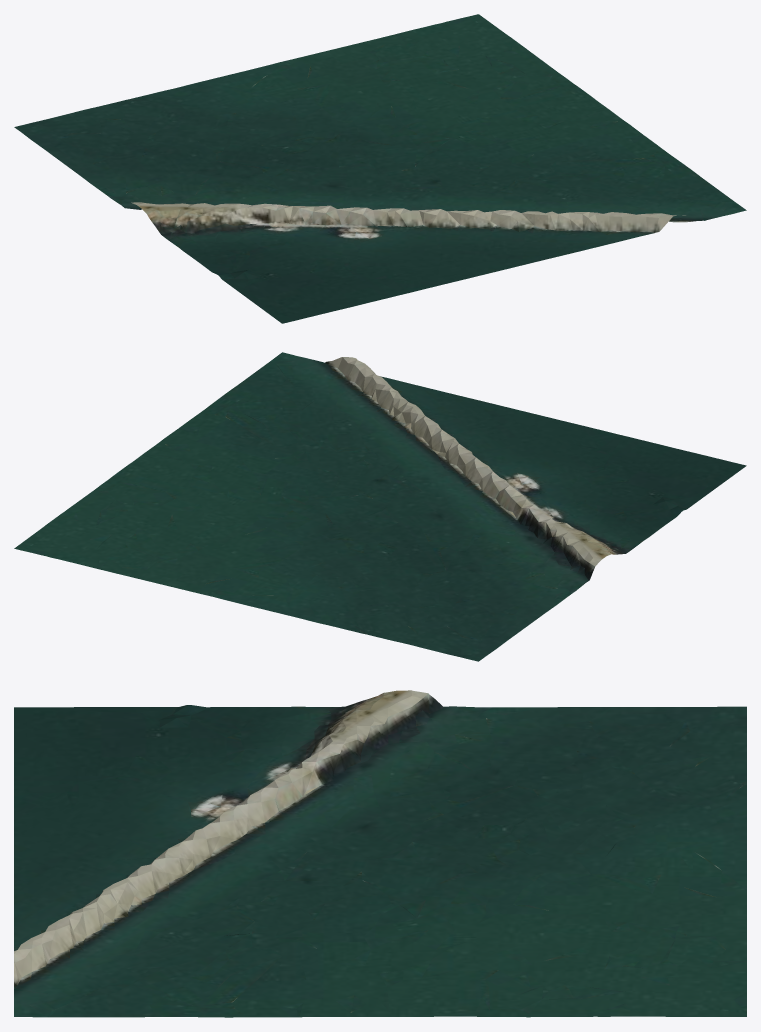
3 renders of one model, top to bottom at view 1: azimuth 30°, elevation 25°; view 2: azimuth 150°, elevation 25°; view 3: azimuth 270°, elevation 25°, orthographic. The views are drawn at different scales.
Size of the model in its own units: 209 by 5.65 by 209.
Materials: 3 (3 with a texture image).
